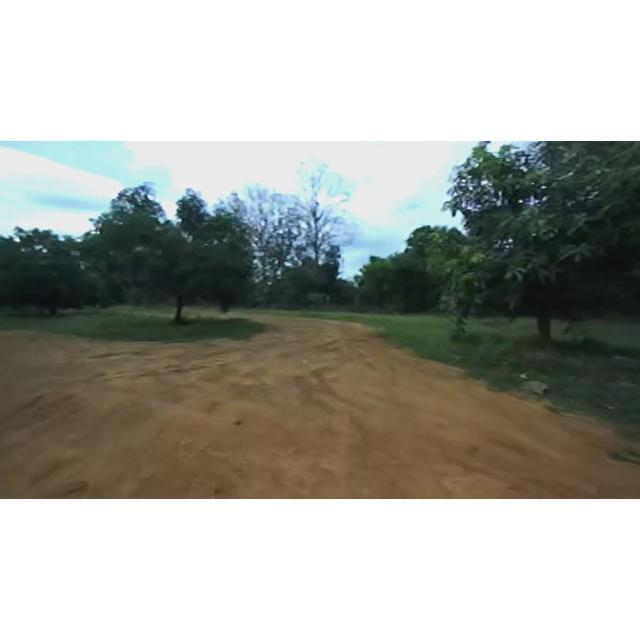tree: (436, 144, 640, 352), (210, 175, 308, 317), (78, 183, 176, 323), (287, 148, 357, 314), (394, 224, 492, 322), (0, 221, 91, 325), (146, 220, 210, 326), (206, 210, 254, 322), (352, 246, 408, 320)
